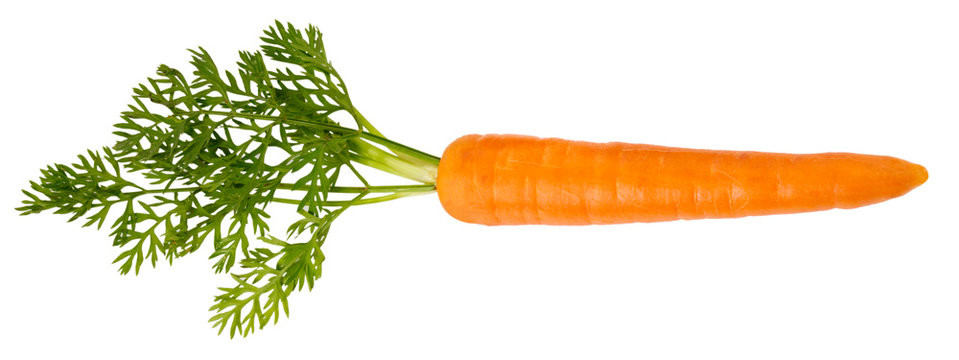carrot: (130, 74, 934, 276)
